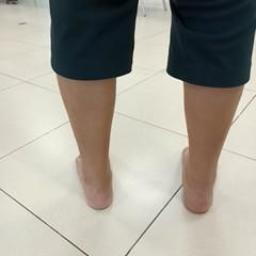Back View -Both Feet-: (55, 122, 237, 226)
